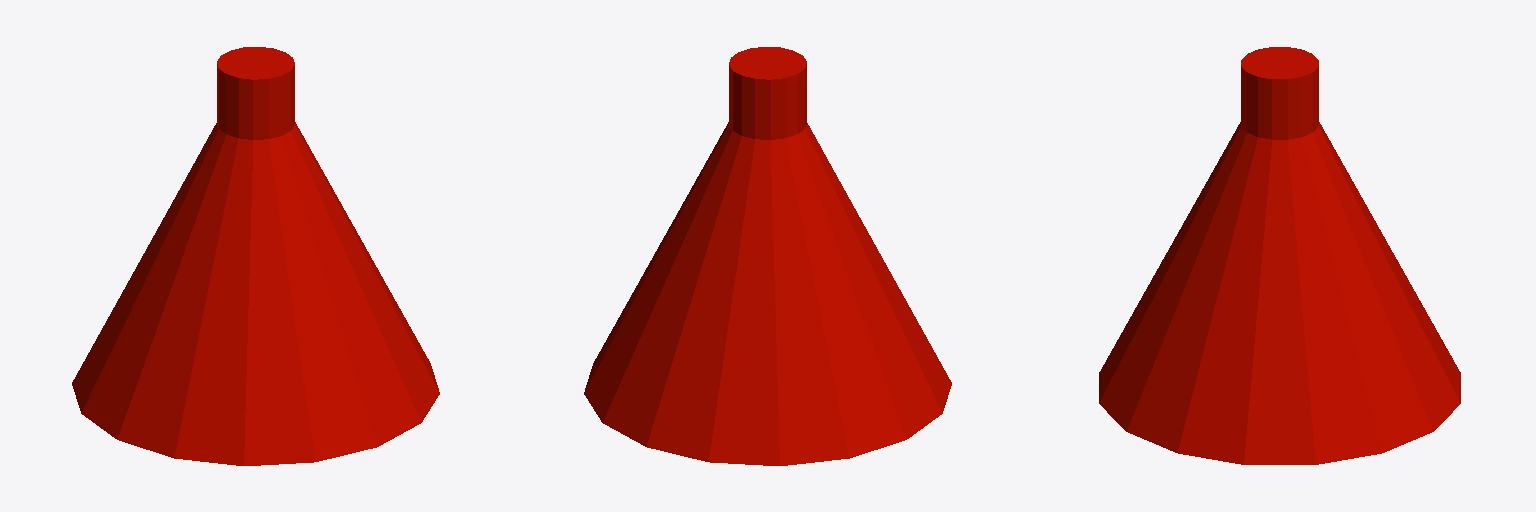
File: lamp_top_chain.obj
3 renders of one model, left to right at view 1: azimuth 30°, elevation 25°; view 2: azimuth 150°, elevation 25°; view 3: azimuth 270°, elevation 25°, orthographic.
Visible parts, largest first — view 1: Cone; view 2: Cone; view 3: Cone.
Boxes of the visible parts, x1,y1,x2,y2 form: Cone: [72, 47, 439, 465]; Cone: [584, 47, 951, 465]; Cone: [1099, 47, 1460, 464].
Bounding box in the file's own units: 3.35 × 3.94 × 3.35.